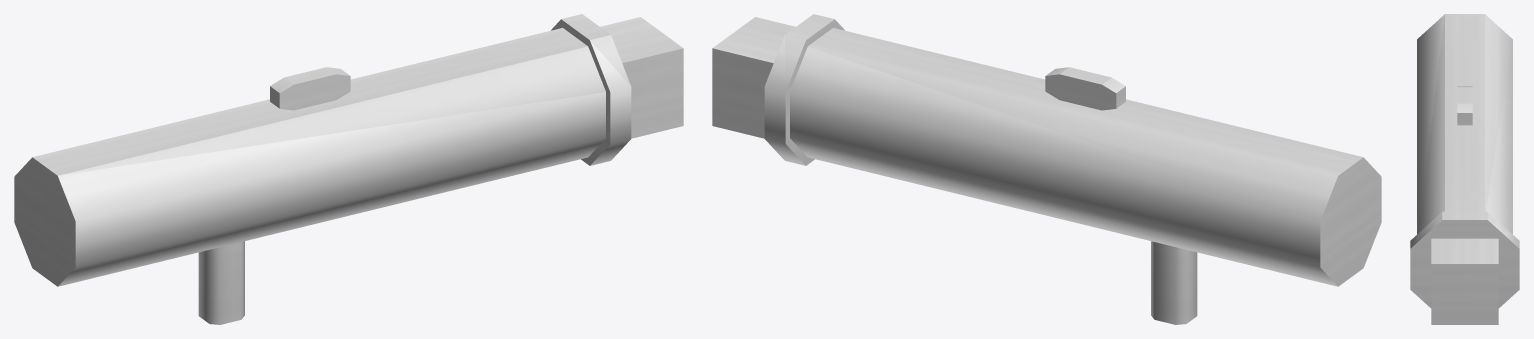
Rendered from rocket_launcher.obj.
3 renders of one model, left to right at view 1: azimuth 30°, elevation 25°; view 2: azimuth 150°, elevation 25°; view 3: azimuth 270°, elevation 25°, orthographic. The views are drawn at different scales.
Visible parts, largest first — view 1: receiver, butt_or_trigger, barrel_muzzle, front_sight, stock_or_grip; view 2: receiver, butt_or_trigger, barrel_muzzle, front_sight, stock_or_grip; view 3: receiver, butt_or_trigger, barrel_muzzle, stock_or_grip.
Part boxes in pixels (left/top/right/bottom): receiver: left=14, top=28, right=605, bottom=286; butt_or_trigger: left=600, top=17, right=683, bottom=138; barrel_muzzle: left=551, top=14, right=631, bottom=165; front_sight: left=198, top=241, right=244, bottom=324; stock_or_grip: left=270, top=67, right=350, bottom=110; receiver: left=790, top=28, right=1381, bottom=286; butt_or_trigger: left=712, top=17, right=795, bottom=138; barrel_muzzle: left=764, top=14, right=844, bottom=165; front_sight: left=1151, top=241, right=1197, bottom=324; stock_or_grip: left=1045, top=67, right=1125, bottom=110; receiver: left=1417, top=14, right=1512, bottom=234; butt_or_trigger: left=1431, top=238, right=1498, bottom=324; barrel_muzzle: left=1410, top=211, right=1519, bottom=308; stock_or_grip: left=1457, top=86, right=1472, bottom=125.
Size of the model in its own units: 0.8725 by 0.295 by 0.17.
